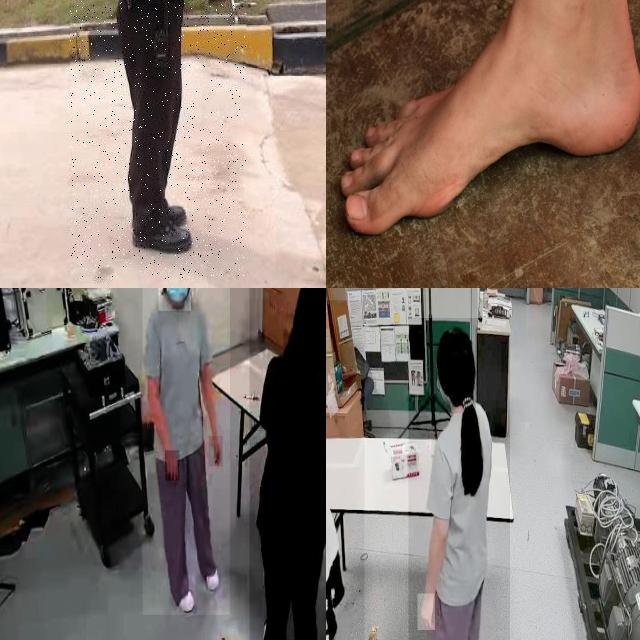Barefoots: (340, 31, 640, 236)
boots: (133, 217, 197, 259), (158, 201, 189, 225)
face_mask: (158, 288, 191, 310)
hand_noglove: (418, 593, 436, 631), (165, 451, 180, 482), (209, 436, 223, 467)
head_nohelmet: (436, 326, 474, 363), (297, 288, 326, 304)
person: (70, 0, 246, 279), (408, 318, 510, 640), (142, 288, 230, 615), (249, 288, 326, 640), (326, 300, 364, 640)
shoes: (168, 572, 198, 618), (201, 544, 220, 598)
